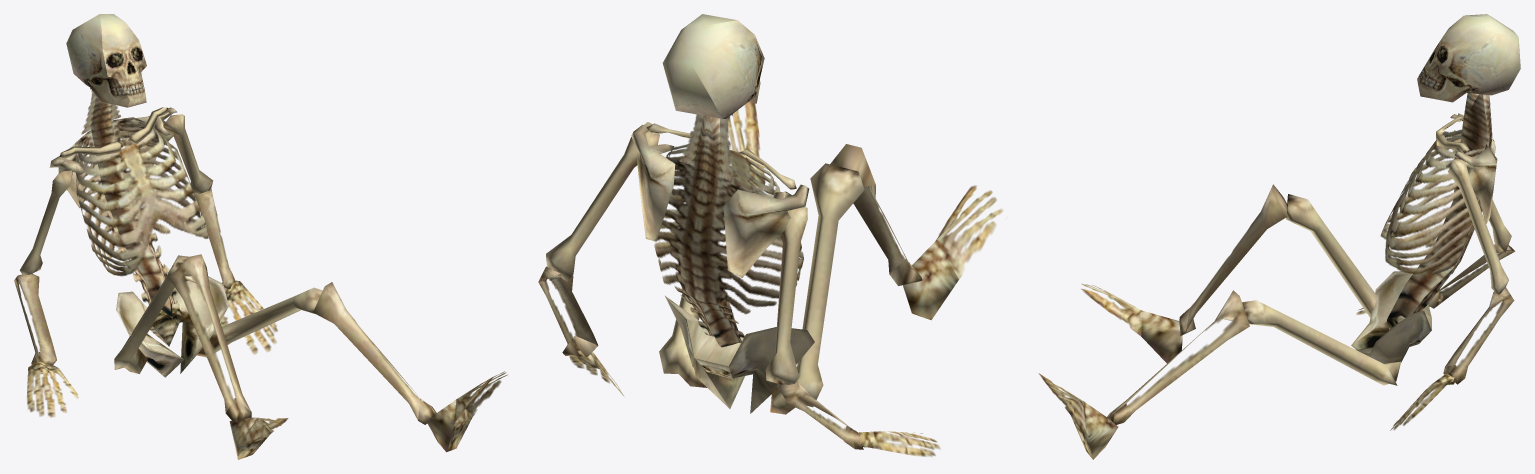
Rendered from d_sk_sit2.glb.
3 renders of one model, left to right at view 1: azimuth 30°, elevation 25°; view 2: azimuth 150°, elevation 25°; view 3: azimuth 270°, elevation 25°, orthographic. The views are drawn at different scales.
Parts seen in each view (by area): view 1: d_sk_sit2-col; view 2: d_sk_sit2-col; view 3: d_sk_sit2-col.
Part boxes in pixels (<box>): d_sk_sit2-col: <box>14,14,507,459</box>; d_sk_sit2-col: <box>538,14,1003,456</box>; d_sk_sit2-col: <box>1038,14,1520,459</box>.
Bounding box in the file's own units: 0.9028 × 0.8815 × 1.09.
Materials: 2 (2 with a texture image).
